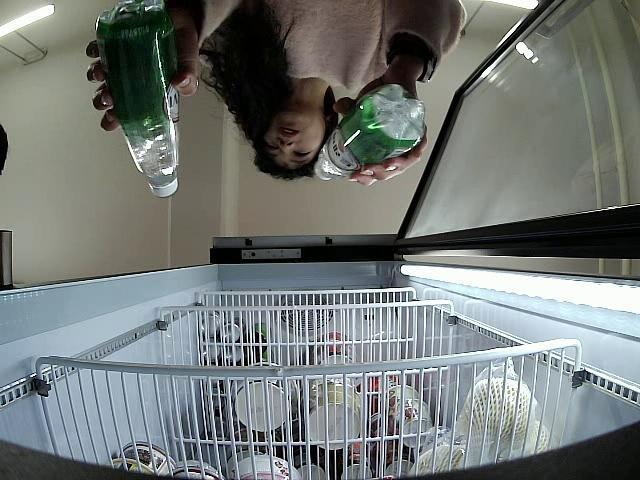18_trevi: (96, 3, 180, 200), (316, 84, 427, 184)
